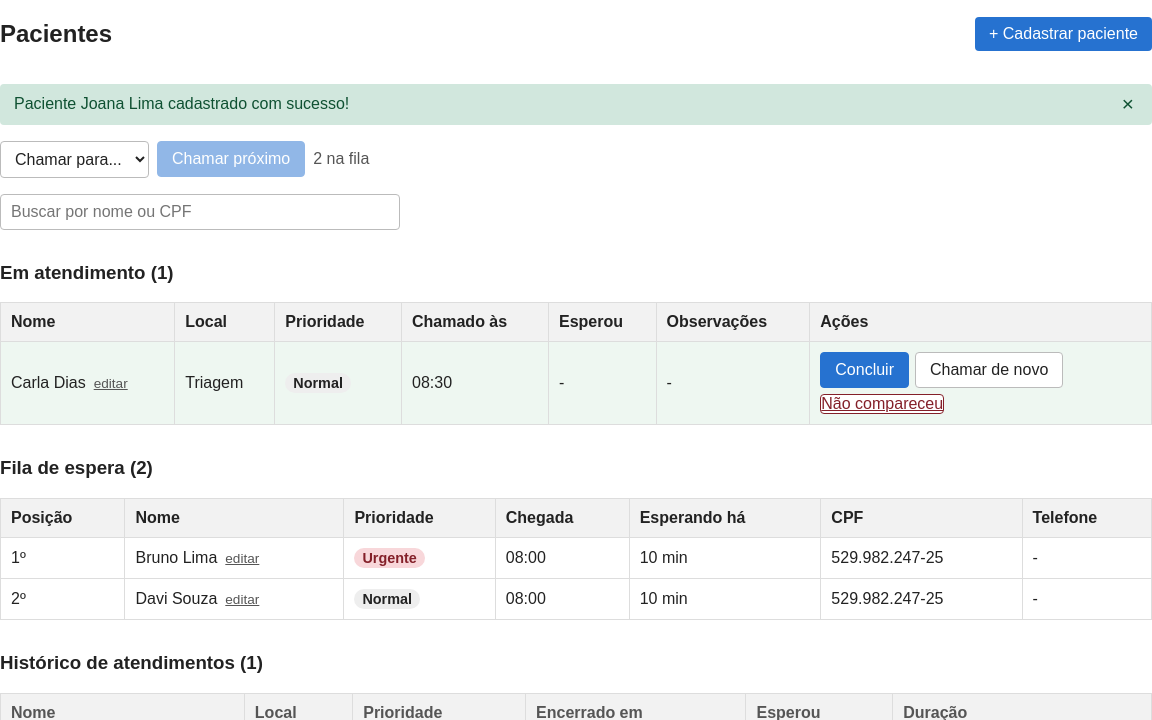
Test: mostra a mensagem que veio do cadastro (state da navegação)
Expected: the message shows "Paciente Joana Lima cadastrado com sucesso!", [14,95,349,112]
Click the button named "Fechar mensagem" at (1128, 104), box [1118,94,1138,115]
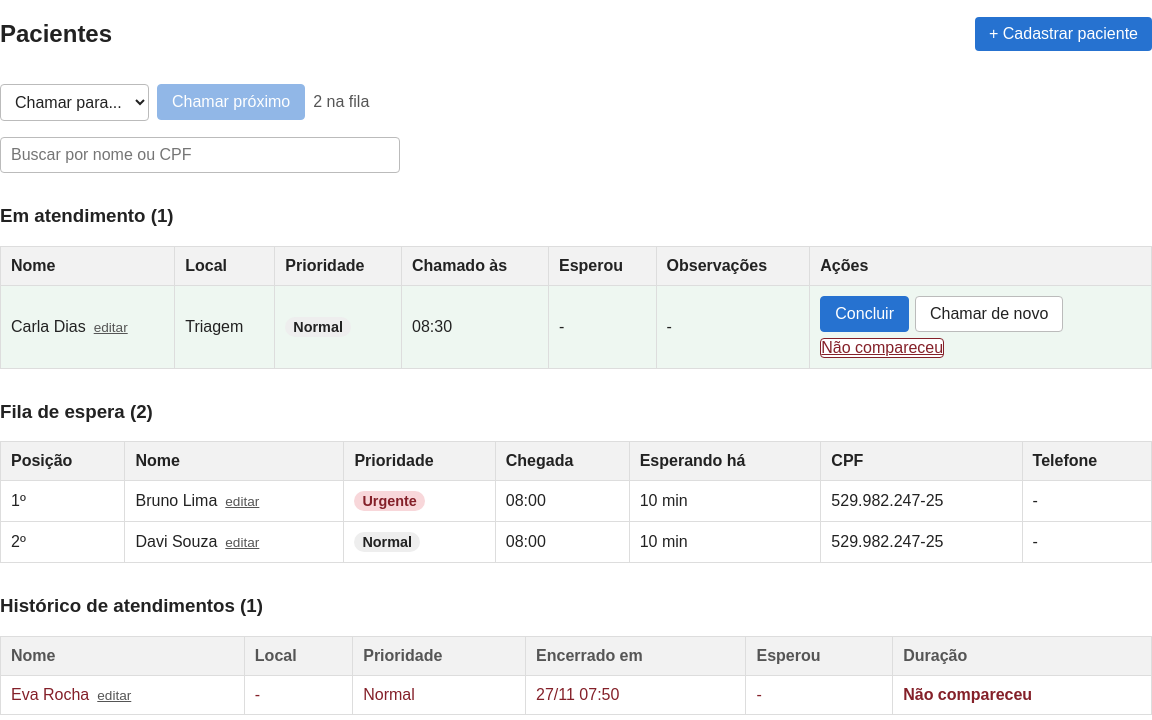
Expected: the message "Paciente Joana Lima cadastrado com sucesso! ×" is gone
